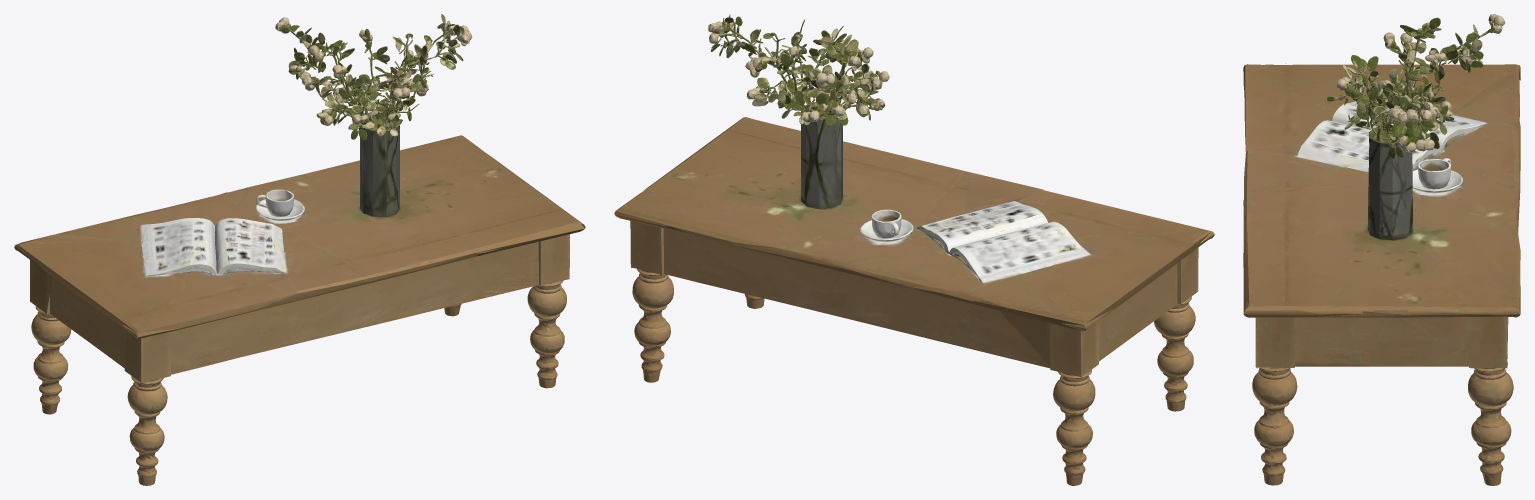
File: homedepot-com-p-jayden-creation-emma-52-in-natural-lift-top--dc1619.glb
The picture shows the model from 3 angles, left to right: view 1: azimuth 30°, elevation 25°; view 2: azimuth 150°, elevation 25°; view 3: azimuth 270°, elevation 25°; orthographic projection. The views are drawn at different scales.
Parts seen in each view (by area): view 1: Mesh_0; view 2: Mesh_0; view 3: Mesh_0.
Part boxes in pixels (x1,y1,x2,y2): Mesh_0: (14,14,585,485); Mesh_0: (614,14,1214,485); Mesh_0: (1243,14,1520,485).
Size of the model in its own units: 1.9 by 1.36 by 0.9031.
1 material, 1 textured.
